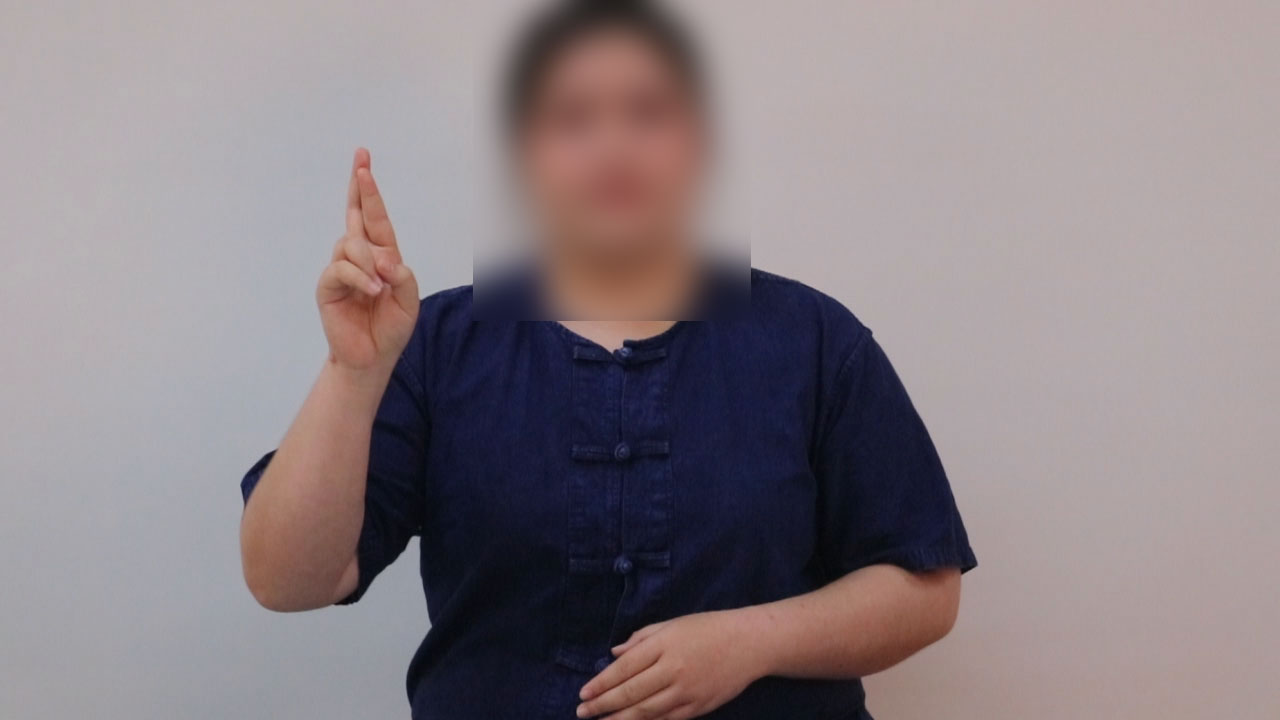rao: (298, 139, 432, 416)
